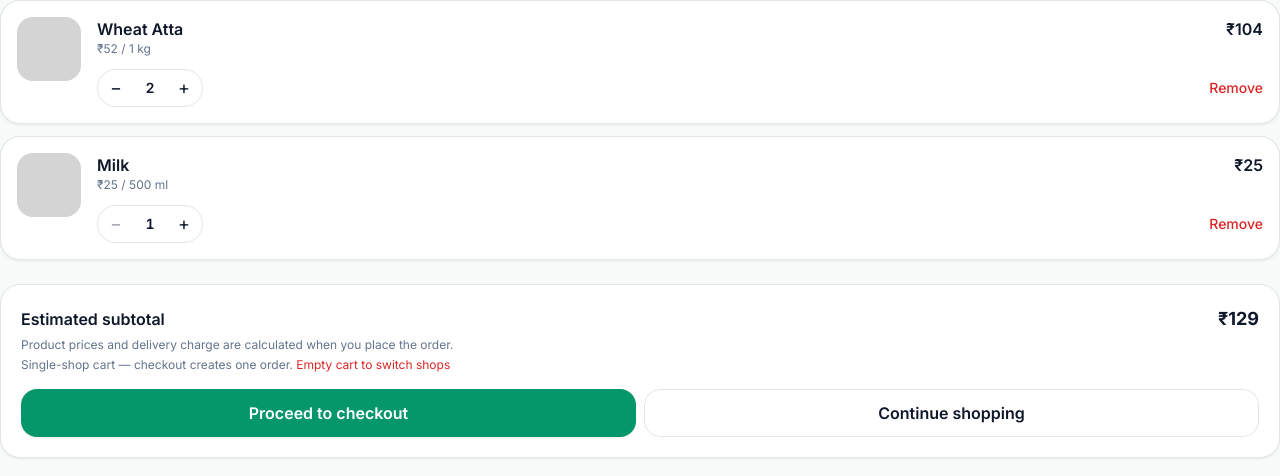
Test: CartManager › updates a quantity through the backend
Step 1. Click the button named "increase quantity" → (184, 88), box left=166, top=70, right=202, bottom=106
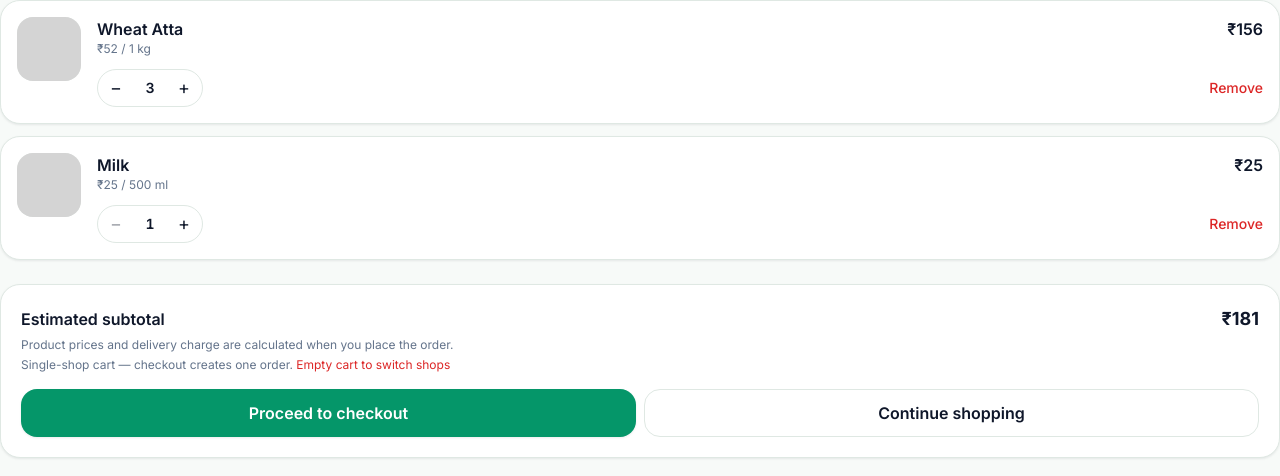
Expected: the element named "quantity for wheat atta" shows "3", left=146, top=79, right=155, bottom=96
